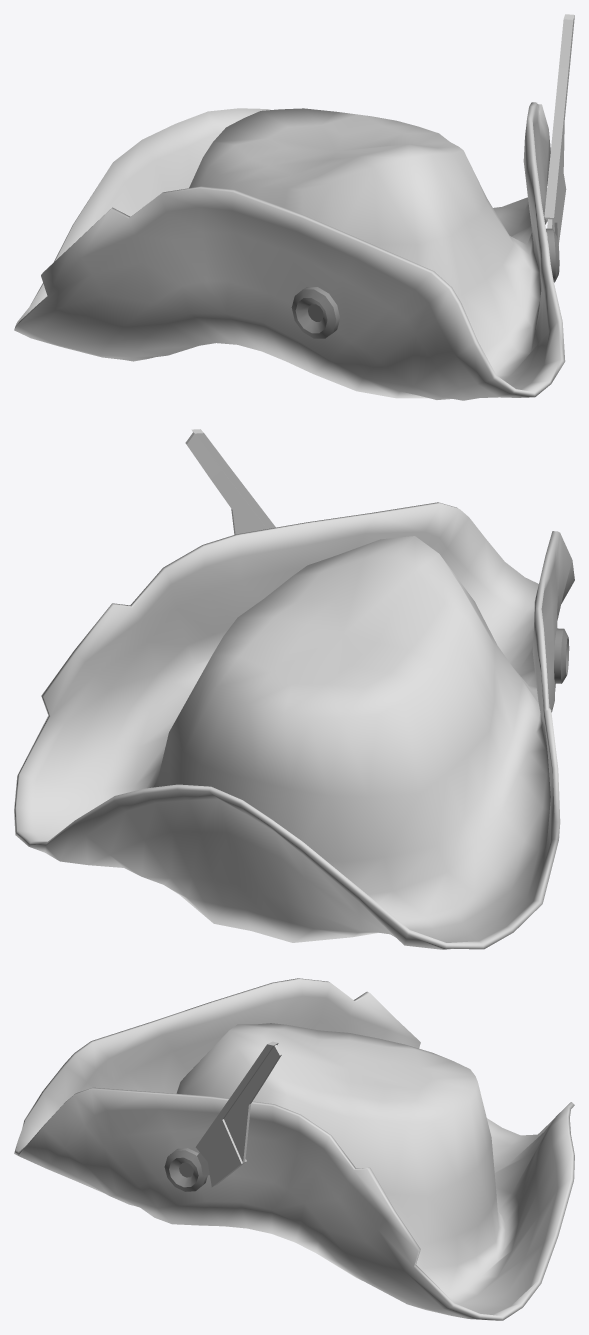
File: P06_HeadWear_A.fbx
3 renders of one model, top to bottom at view 1: azimuth 30°, elevation 25°; view 2: azimuth 150°, elevation 25°; view 3: azimuth 270°, elevation 25°, orthographic. The views are drawn at different scales.
Parts seen in each view (by area): view 1: HeadWear_A; view 2: HeadWear_A; view 3: HeadWear_A.
Boxes of the visible parts, box(x1,y1,x2,y2) form: HeadWear_A: box(14, 14, 574, 400); HeadWear_A: box(14, 429, 574, 949); HeadWear_A: box(14, 978, 574, 1320).
Bounding box in the file's own units: 0.3229 × 0.36 × 0.2097.
